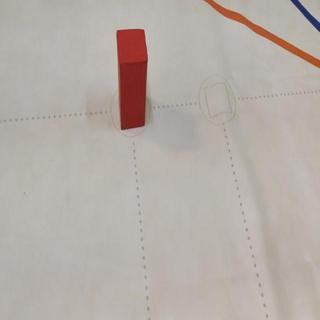redbox: (115, 28, 149, 131)
